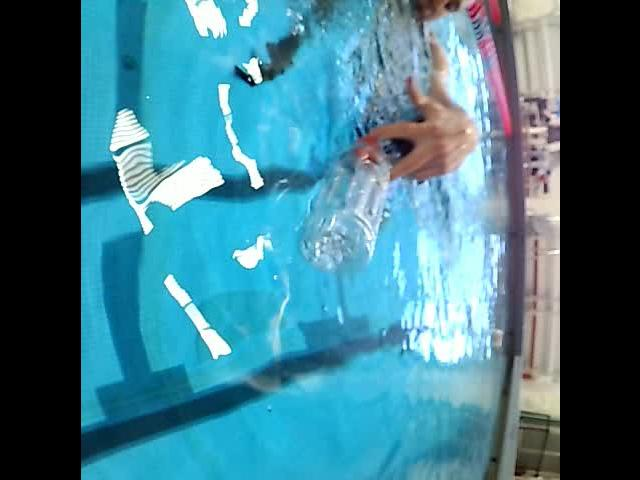Bottle: (293, 125, 393, 282)
